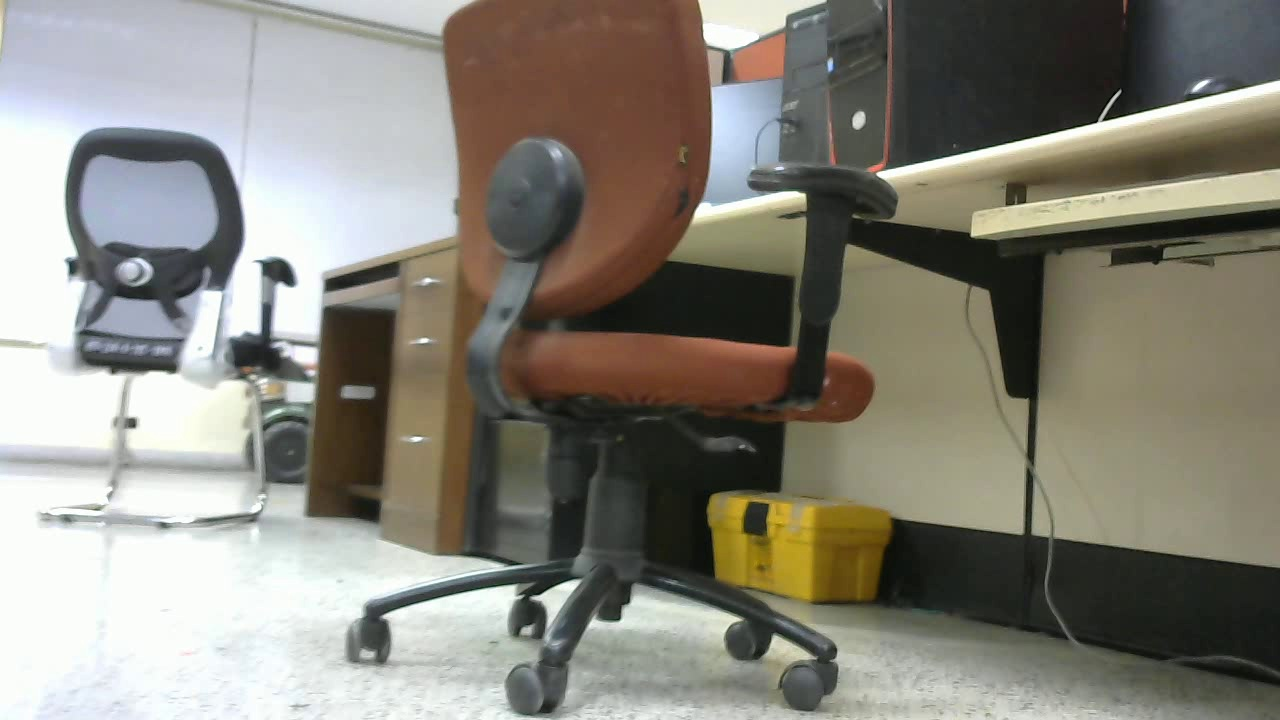chair: (335, 5, 887, 720), (22, 109, 310, 537)
